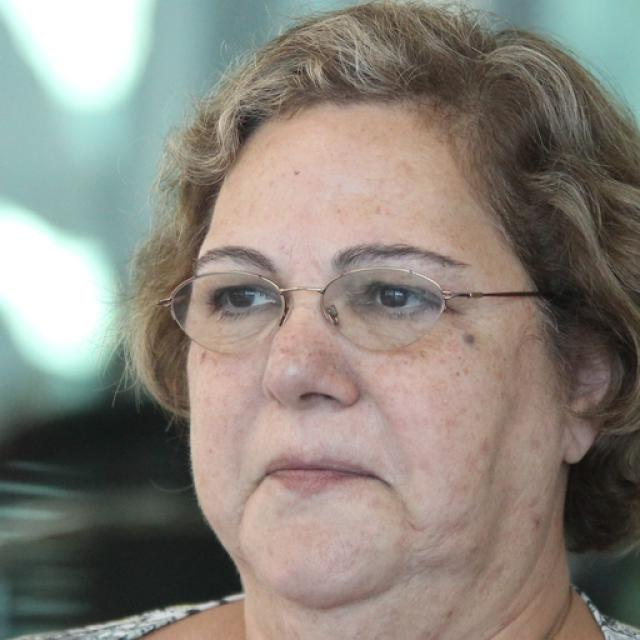Pigmentation: (276, 326, 358, 386), (390, 318, 462, 361)
